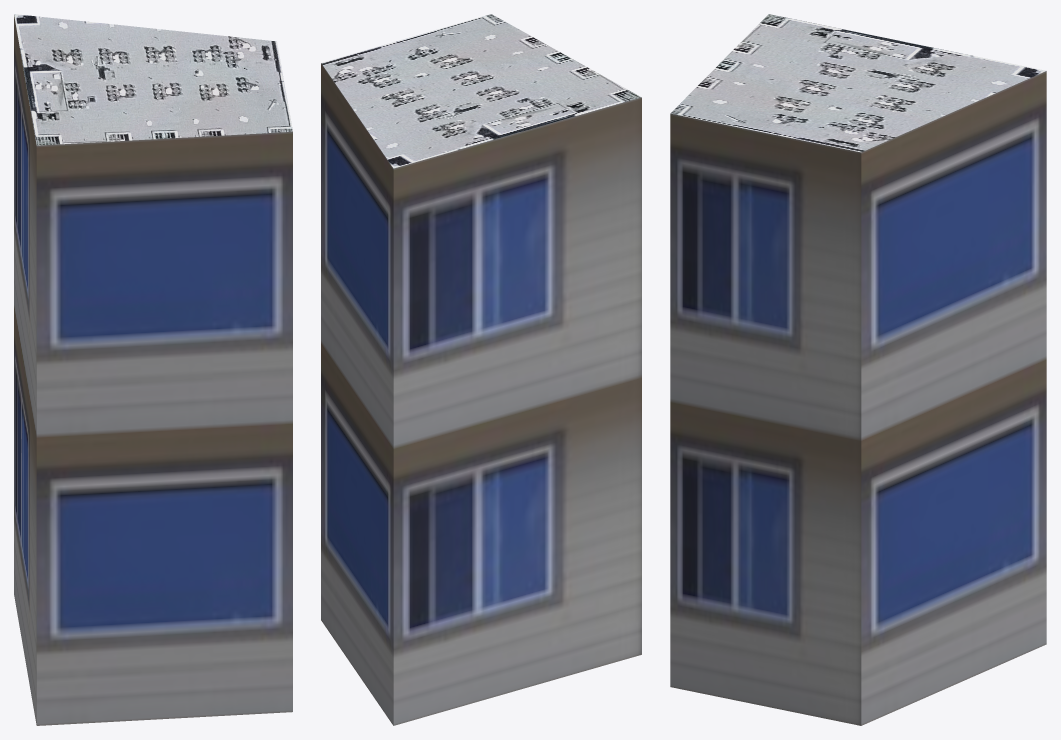
The model's file is ResTex__4813.fbx.
3 views of the same model, side by side, from view 1: azimuth 30°, elevation 25°; view 2: azimuth 150°, elevation 25°; view 3: azimuth 270°, elevation 25° (orthographic). The views are drawn at different scales.
Parts seen in each view (by area): view 1: CityEngineMaterial_23_m, CityEngineMaterial_8_m; view 2: CityEngineMaterial_23_m, CityEngineMaterial_8_m; view 3: CityEngineMaterial_23_m, CityEngineMaterial_8_m.
Boxes of the visible parts, bbox=[...] form: CityEngineMaterial_23_m: bbox=[14, 15, 292, 725]; CityEngineMaterial_8_m: bbox=[14, 14, 292, 145]; CityEngineMaterial_23_m: bbox=[321, 63, 641, 725]; CityEngineMaterial_8_m: bbox=[321, 14, 641, 168]; CityEngineMaterial_23_m: bbox=[670, 71, 1046, 725]; CityEngineMaterial_8_m: bbox=[670, 14, 1046, 152].
Bounding box in the file's own units: 3.11 × 6 × 3.57.
Materials: 2 (2 with a texture image).
